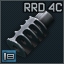AK 7.62x39 JMAC RRD-4C muzzle brake: (0, 0, 64, 64)
